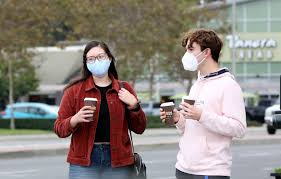with-mask: (180, 32, 221, 75), (84, 42, 114, 79)
